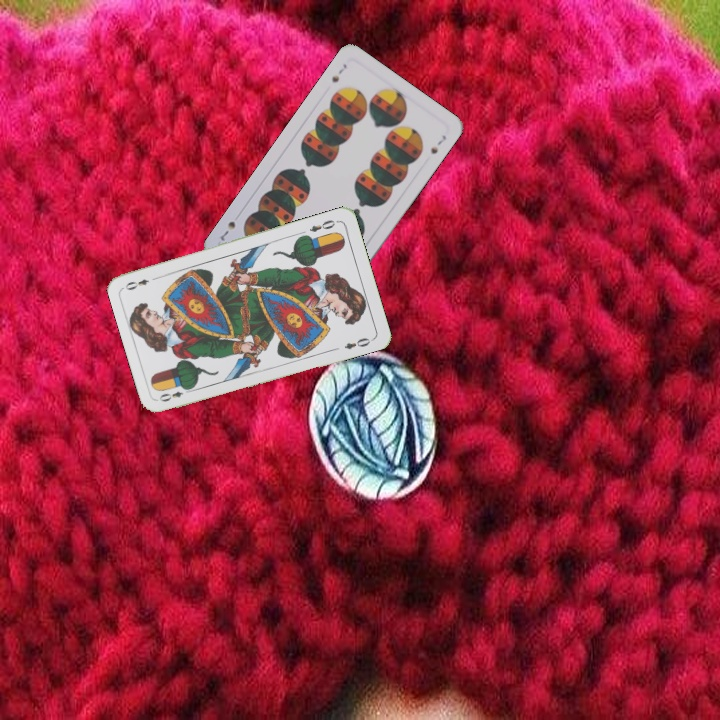EO: (155, 383, 194, 404), (305, 216, 338, 235)
S7: (327, 59, 350, 85)
